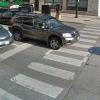Crosswalk: (28, 44, 75, 100)
